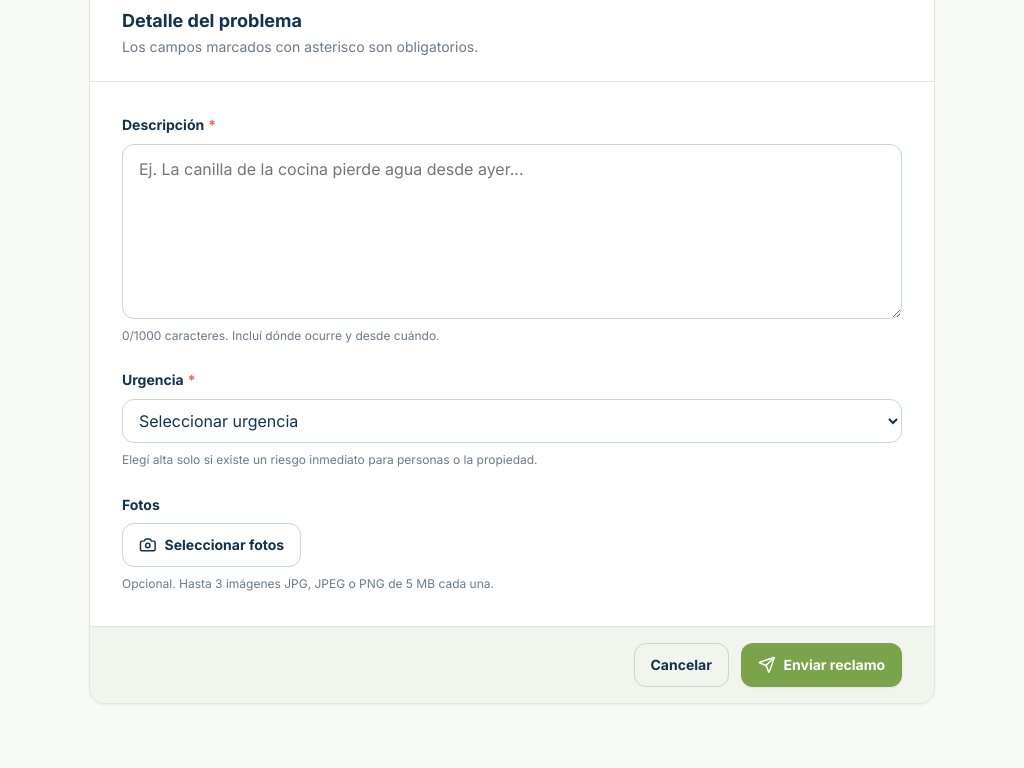
Test: alta de reclamo del inquilino › valida campos obligatorios sin intentar crear el reclamo
(page scrolled)
Check: the heading "Detalle del problema" is shown, box x1=122 y1=10 x2=302 y2=31
Click the button "Enviar reclamo". click: click(821, 665)
box: x1=741 y1=643 x2=902 y2=687
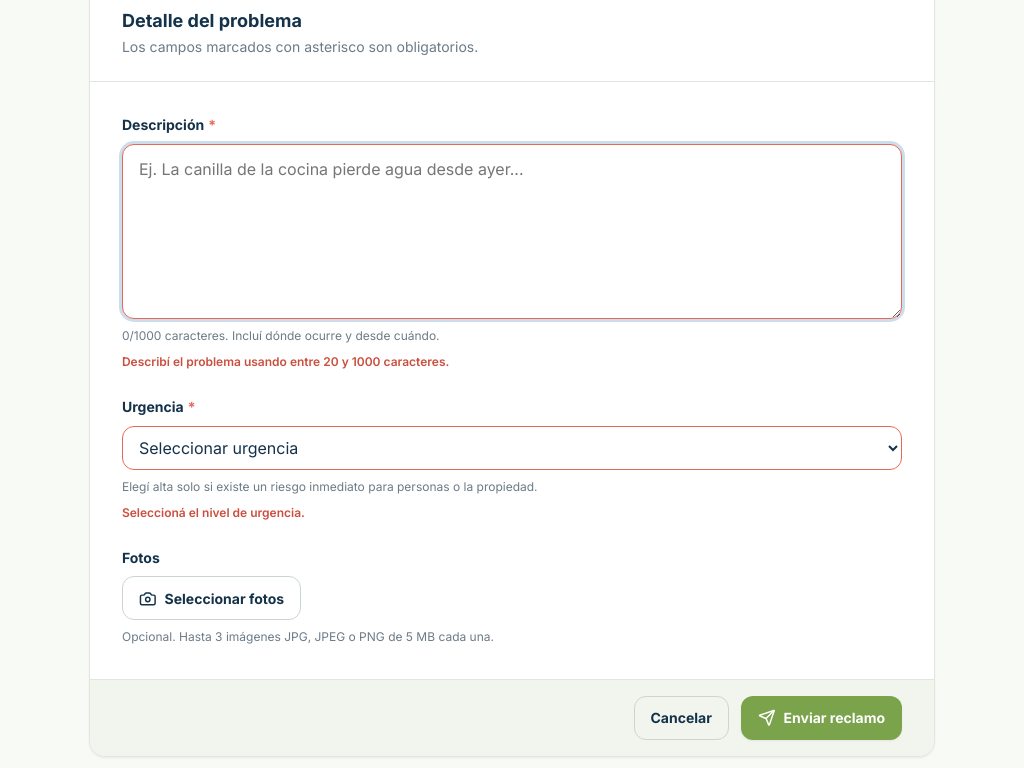
Check: the text "Describí el problema usando entre 20 y 1000 caracteres." is shown, box x1=122 y1=354 x2=449 y2=369
